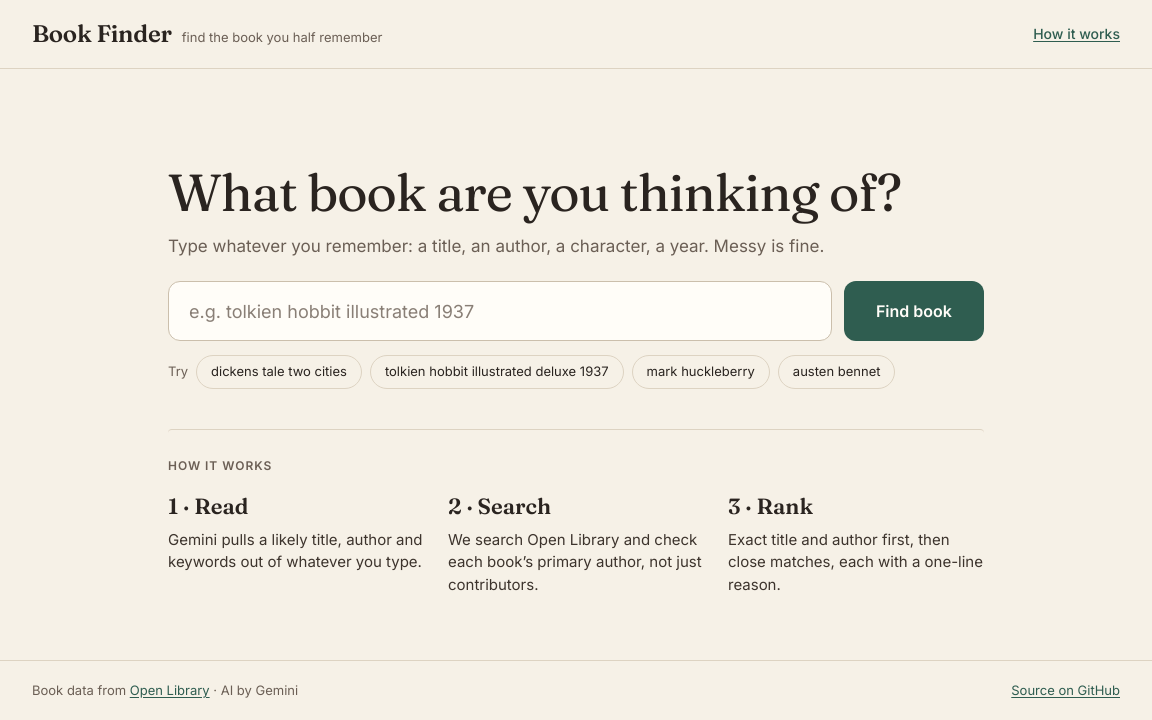
App › shows the rate-limit card with a countdown
Type "dickens" into the search field labelled "What book are you thinking of?" at coordinates (500, 311), box [168,281,832,341]
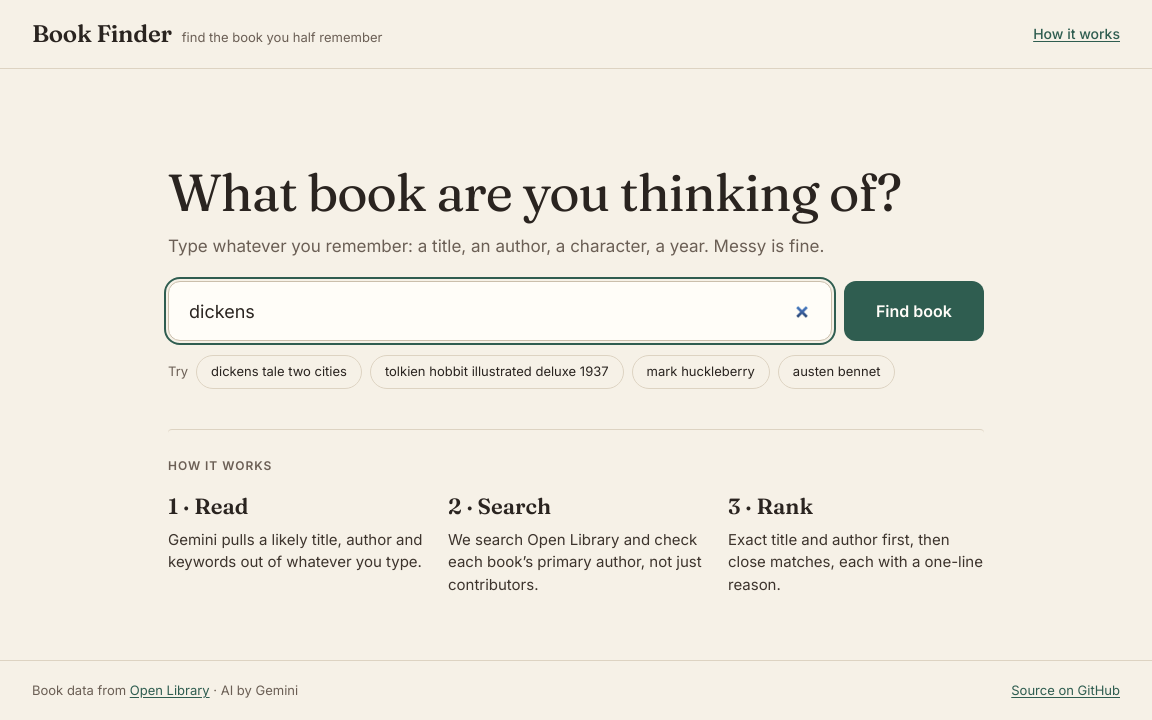
Click the button "Find book" at coordinates (914, 311), box [844,281,984,341]
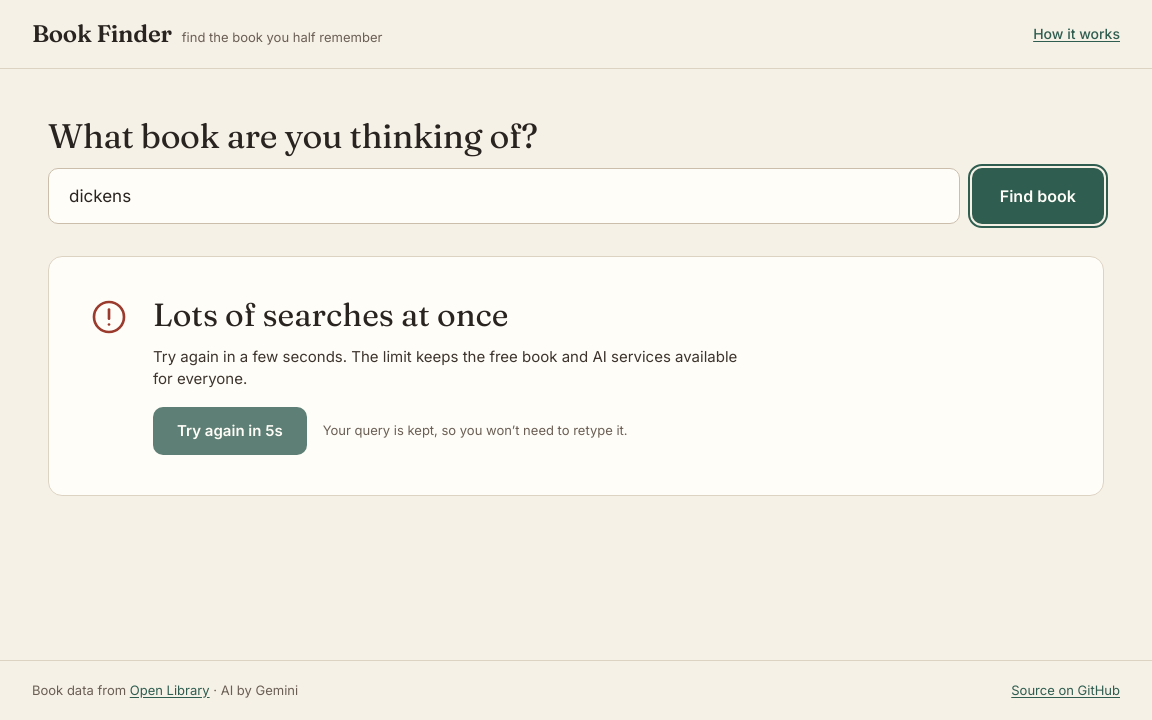
Expected: the heading "Lots of searches at once" is shown, [153,295,508,334]
Expected: the button "Try again in 5s" is disabled, [153,407,307,455]
